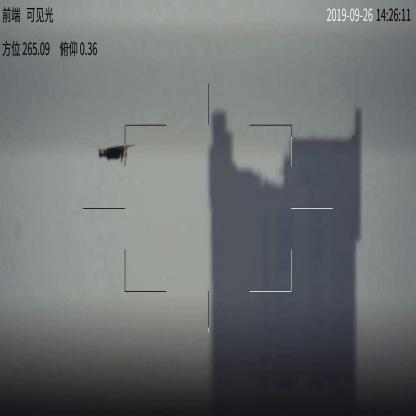uav: (92, 142, 132, 163)
